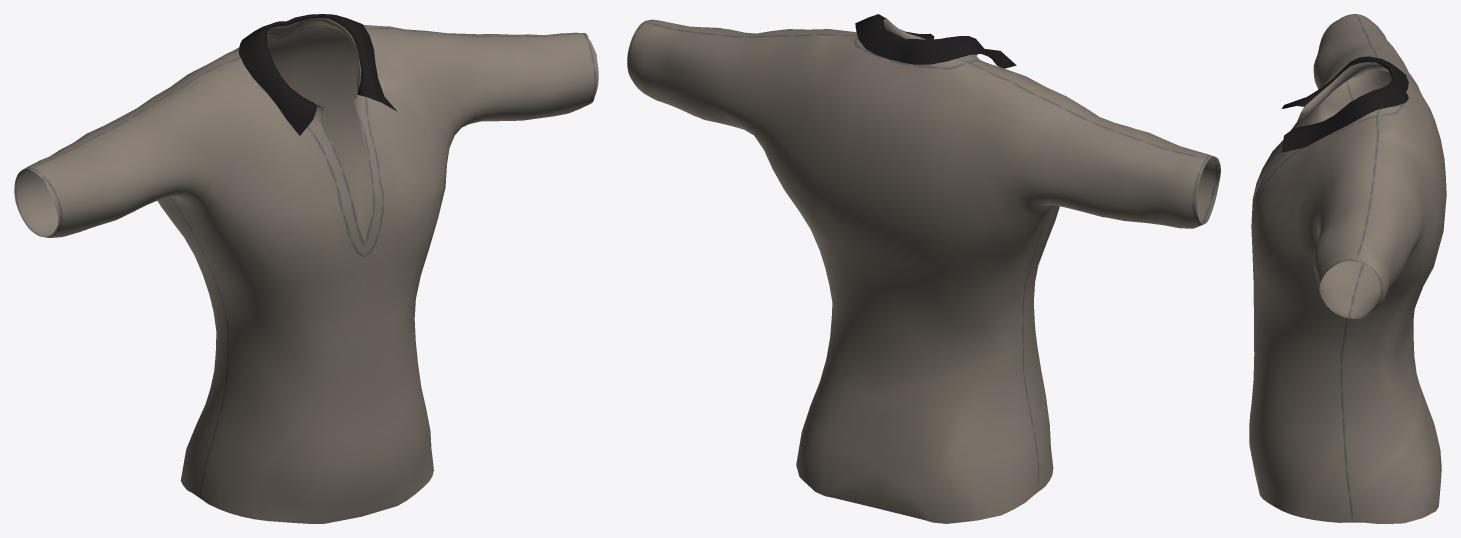
The model's file is shirt.fbx.
3 renders of one model, left to right at view 1: azimuth 30°, elevation 25°; view 2: azimuth 150°, elevation 25°; view 3: azimuth 270°, elevation 25°, orthographic. The views are drawn at different scales.
Parts seen in each view (by area): view 1: shirt4; view 2: shirt4; view 3: shirt4.
Part boxes in pixels (<box>): shirt4: <box>14,14,598,523</box>; shirt4: <box>627,14,1220,523</box>; shirt4: <box>1249,14,1446,523</box>.
Bounding box in the file's own units: 87.67 × 67.01 × 29.32.
